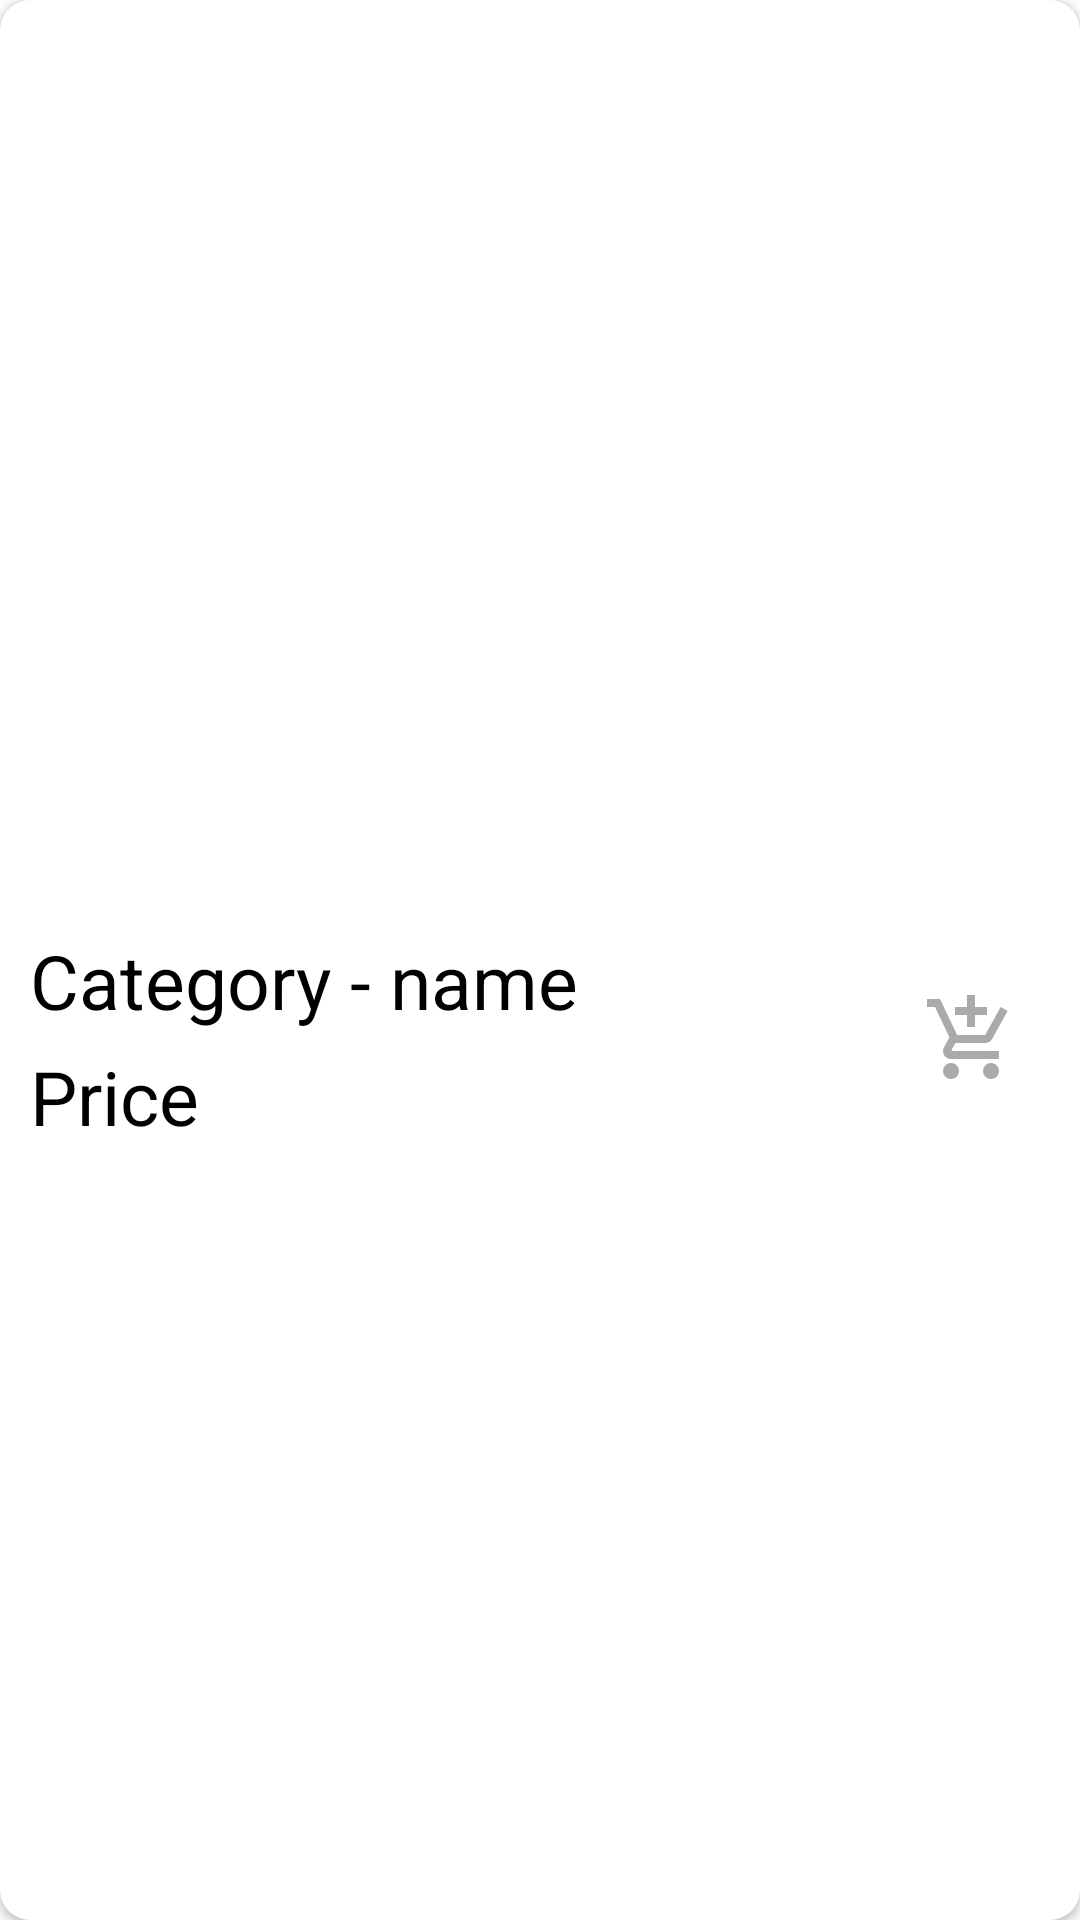

Icon click points for this 1080 × 1920 phone screenshot, format (x,y):
add cart: (967,1037)
